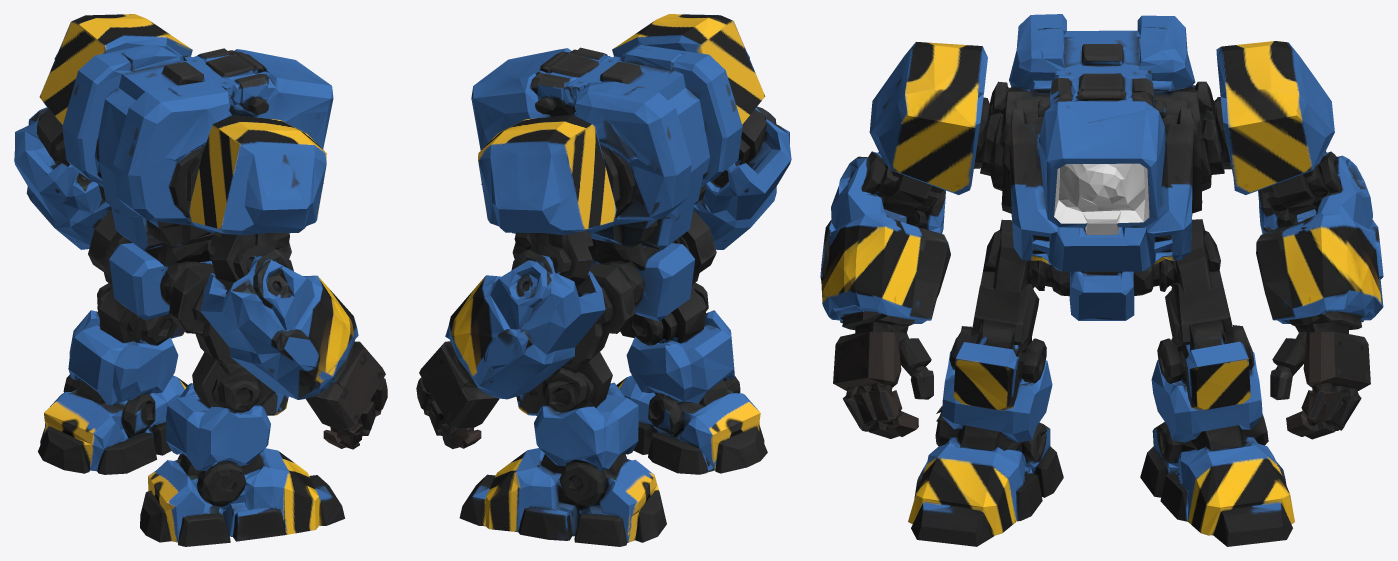
Rendered from heavy_meshy_game.fbx.
The picture shows the model from 3 angles, left to right: view 1: azimuth 30°, elevation 25°; view 2: azimuth 150°, elevation 25°; view 3: azimuth 270°, elevation 25°; orthographic projection. The views are drawn at different scales.
Visible parts, largest first — view 1: SM_Heavy_Meshy; view 2: SM_Heavy_Meshy; view 3: SM_Heavy_Meshy.
Part boxes in pixels (<box>): SM_Heavy_Meshy: <box>14,14,387,546</box>; SM_Heavy_Meshy: <box>416,14,791,546</box>; SM_Heavy_Meshy: <box>820,14,1383,546</box>.
Bounding box in the file's own units: 138 × 248 × 278.
2 materials, 1 textured.
